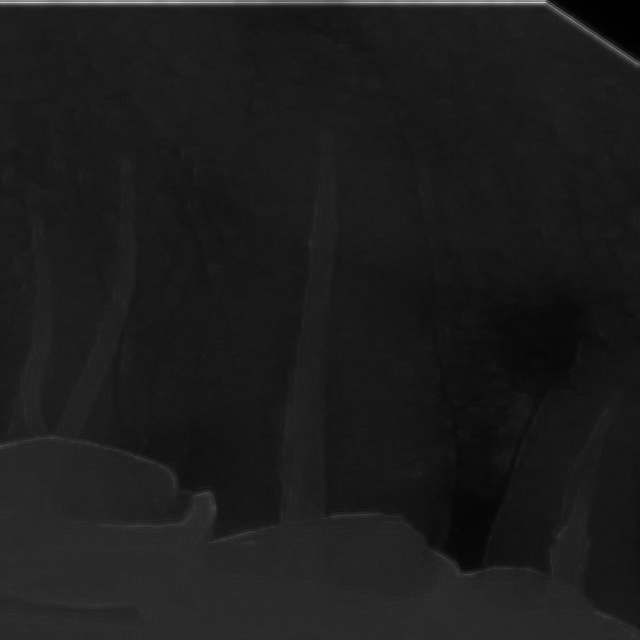Class 1- complete endodontic treatment: (182, 2, 479, 640), (4, 112, 277, 628), (436, 245, 640, 640)
